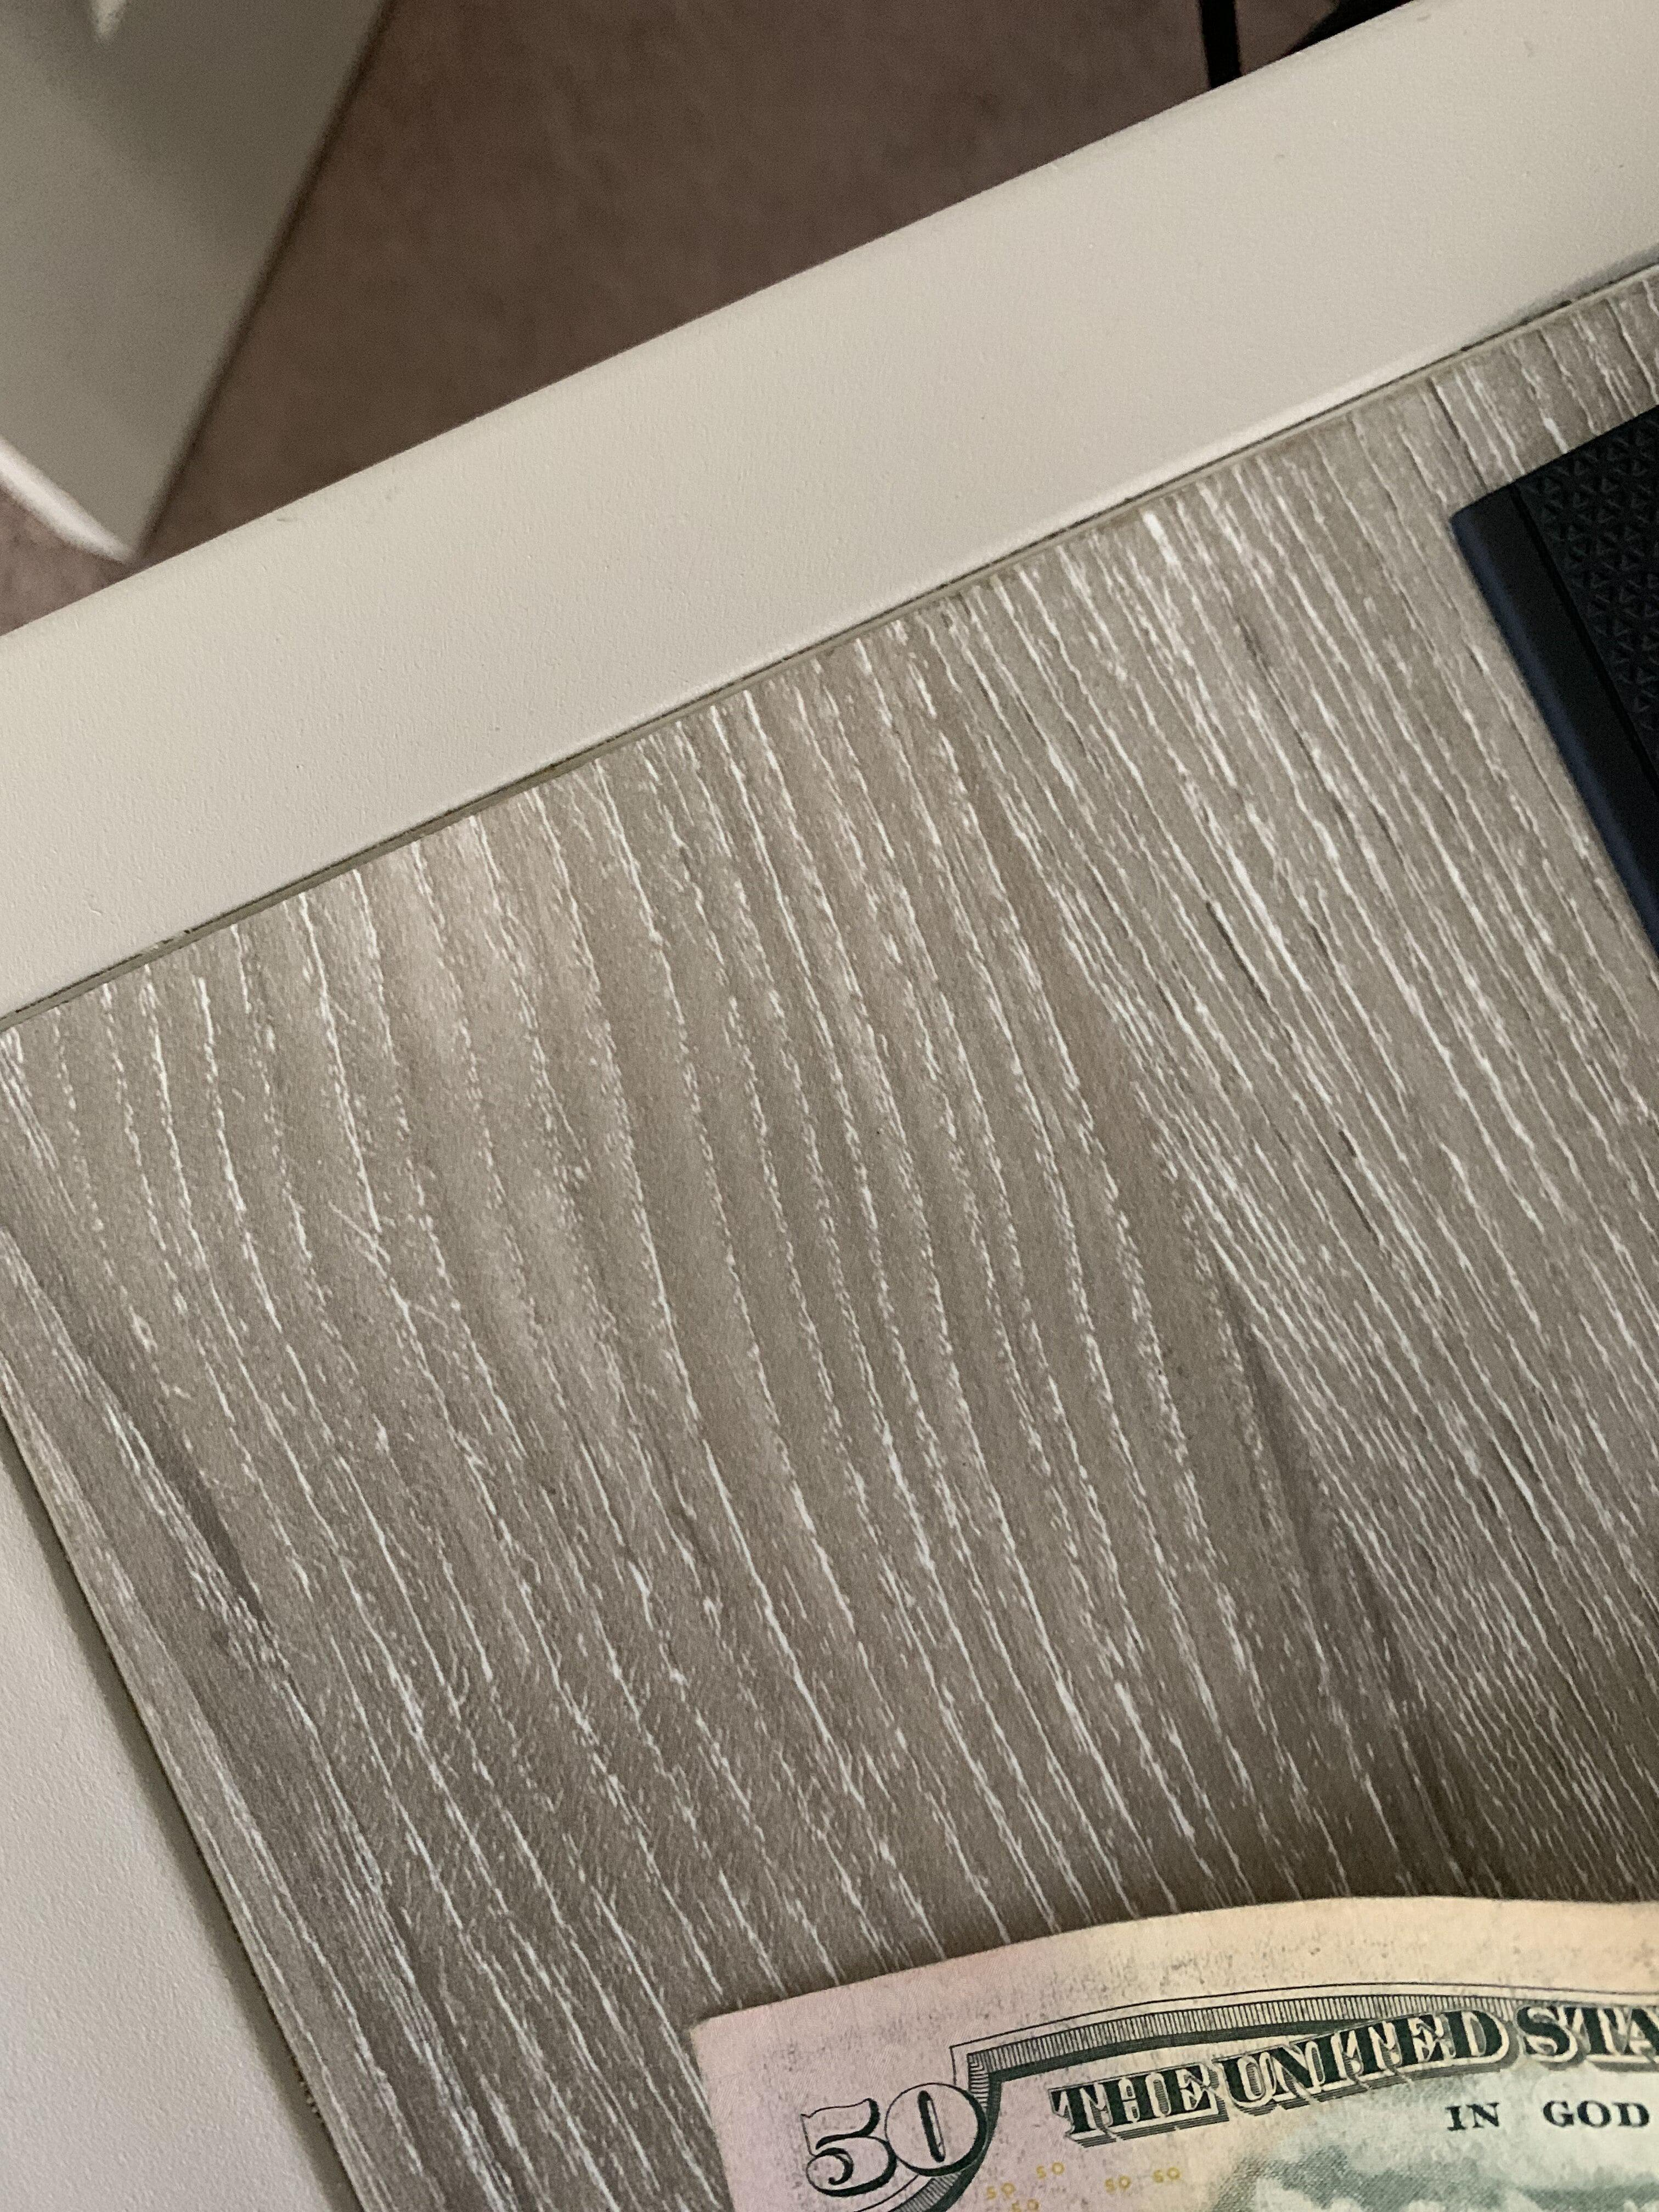FiftyBill: (662, 1869, 1657, 2209)
